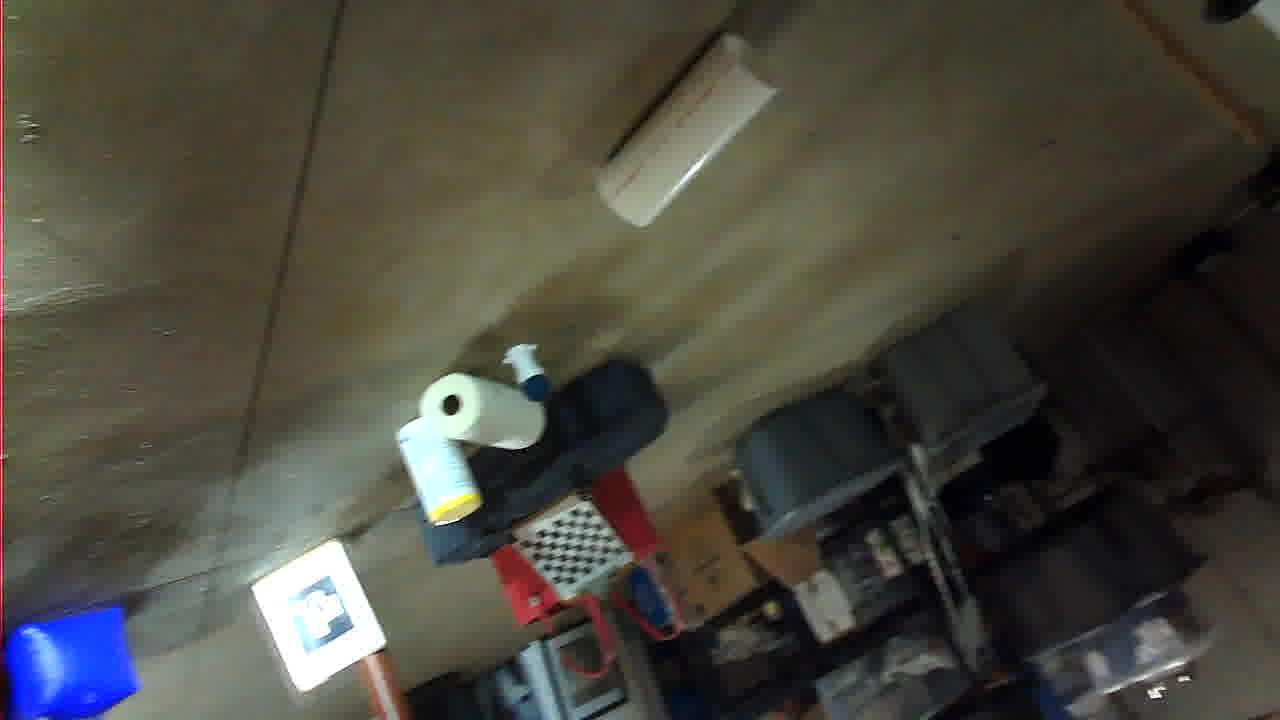coral: (502, 485, 682, 691)
